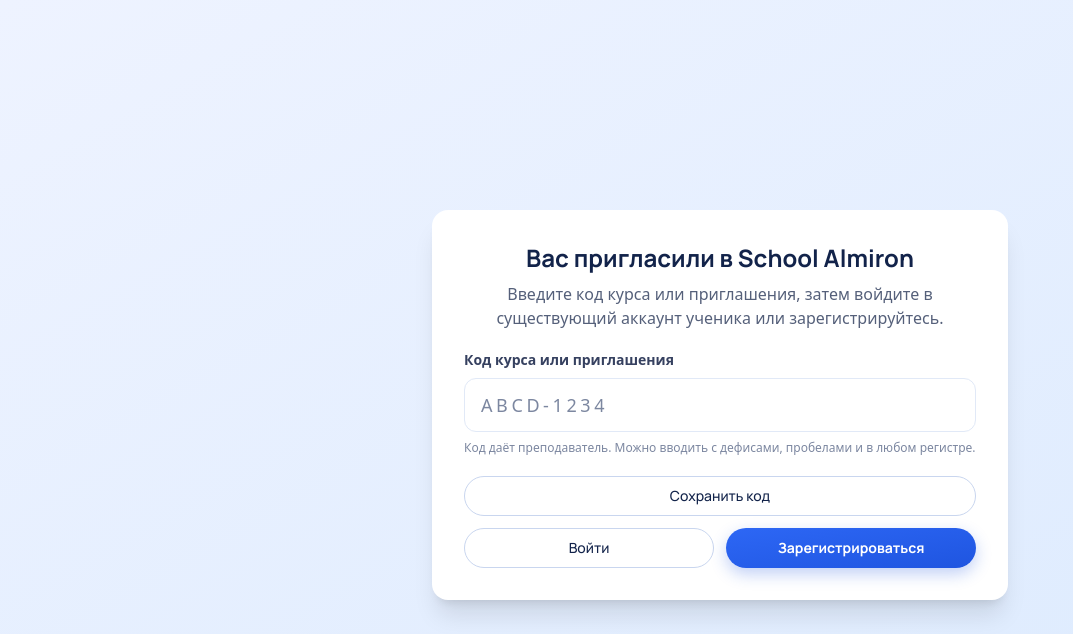
JoinPage › code route is available without auth and stores normalized code in localStorage
Type "ab cd-12" into the field named "Код приглашения".
click(720, 405); type("ab cd-12")  # box [464,378,976,432]
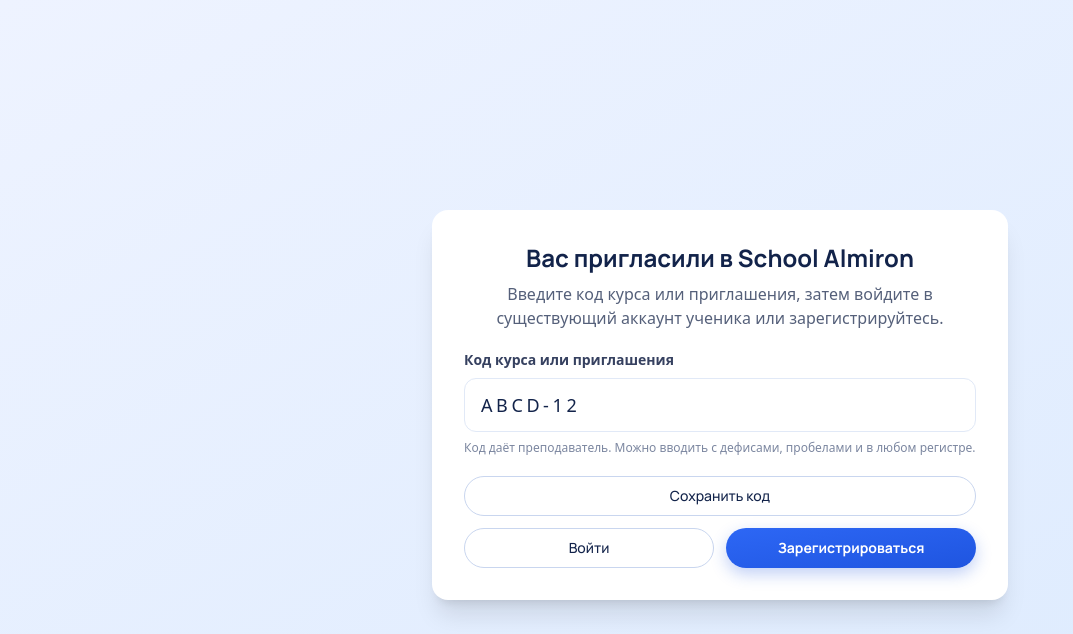
Result: the field named "Код приглашения" holds "ABCD-12" at [464,378,976,432]
